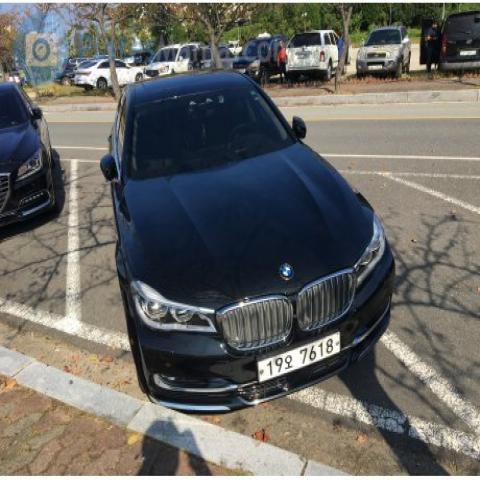LP: (252, 324, 356, 391)
